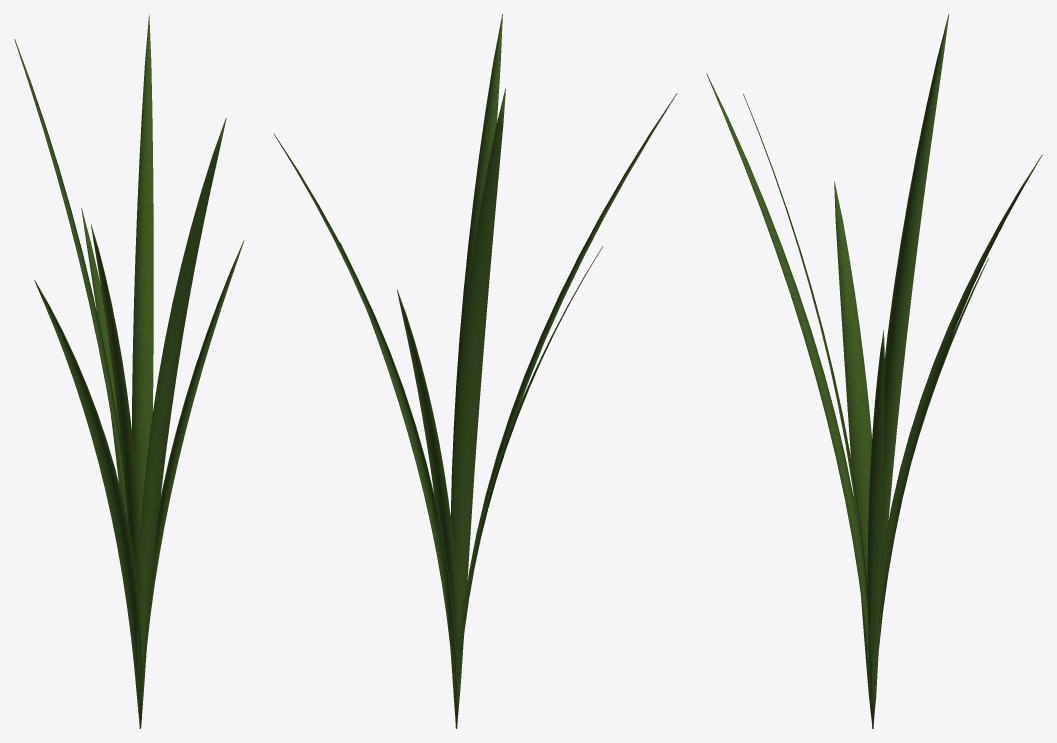
The model's file is grass_clump.fbx.
3 renders of one model, left to right at view 1: azimuth 30°, elevation 25°; view 2: azimuth 150°, elevation 25°; view 3: azimuth 270°, elevation 25°, orthographic. The views are drawn at different scales.
Visible parts, largest first — view 1: grass_clump; view 2: grass_clump; view 3: grass_clump.
Part boxes in pixels (x1,y1,x2,y2): grass_clump: (14,14,244,728); grass_clump: (273,14,677,728); grass_clump: (706,14,1042,728).
Size of the model in its own units: 9.74 by 26.04 by 11.81.
